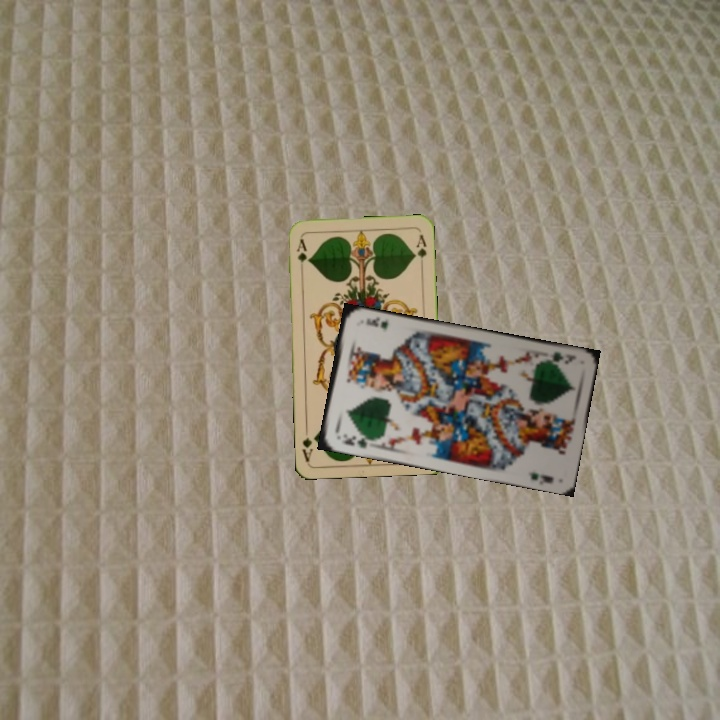GA: (292, 235, 310, 274)
GK: (338, 429, 375, 451), (541, 348, 579, 367)
